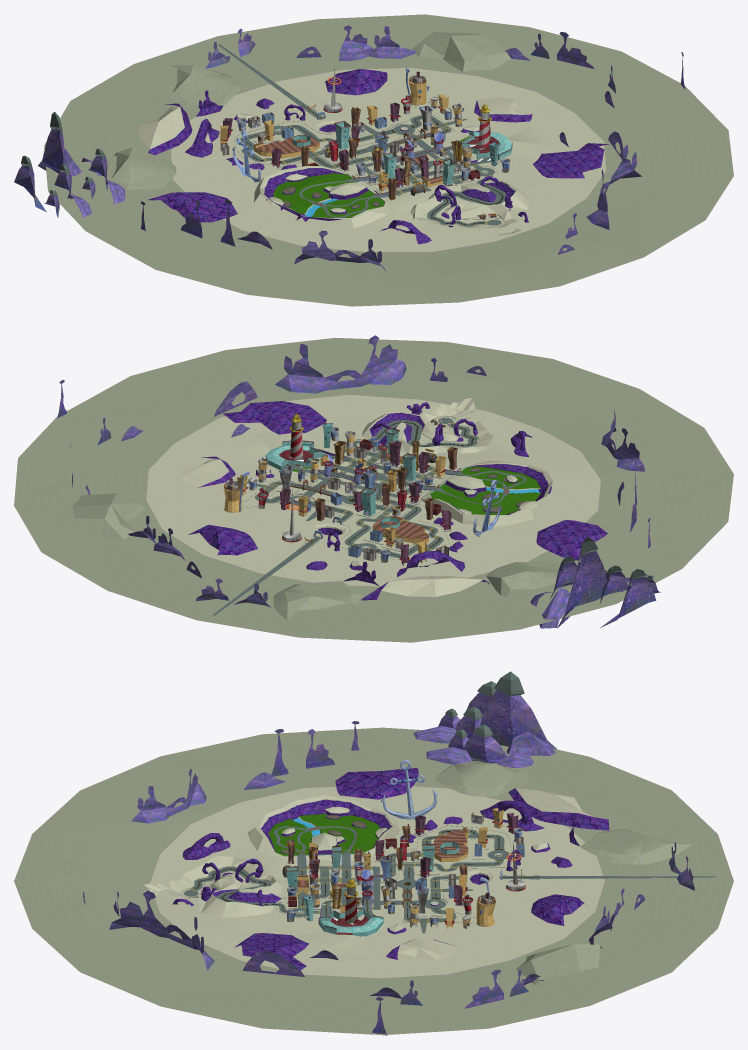
The model's file is bikini bottom.glb.
3 views of the same model, one above another, from view 1: azimuth 30°, elevation 25°; view 2: azimuth 150°, elevation 25°; view 3: azimuth 270°, elevation 25° (orthographic). The views are drawn at different scales.
Visible parts, largest first — view 1: mesh; view 2: mesh; view 3: mesh.
Boxes of the visible parts, x1,y1,x2,y2 form: mesh: [14, 14, 733, 306]; mesh: [14, 335, 733, 642]; mesh: [14, 671, 733, 1035].
Size of what is drawn, in the model's own units: 901 by 127 by 872.
64 materials, 63 textured.
